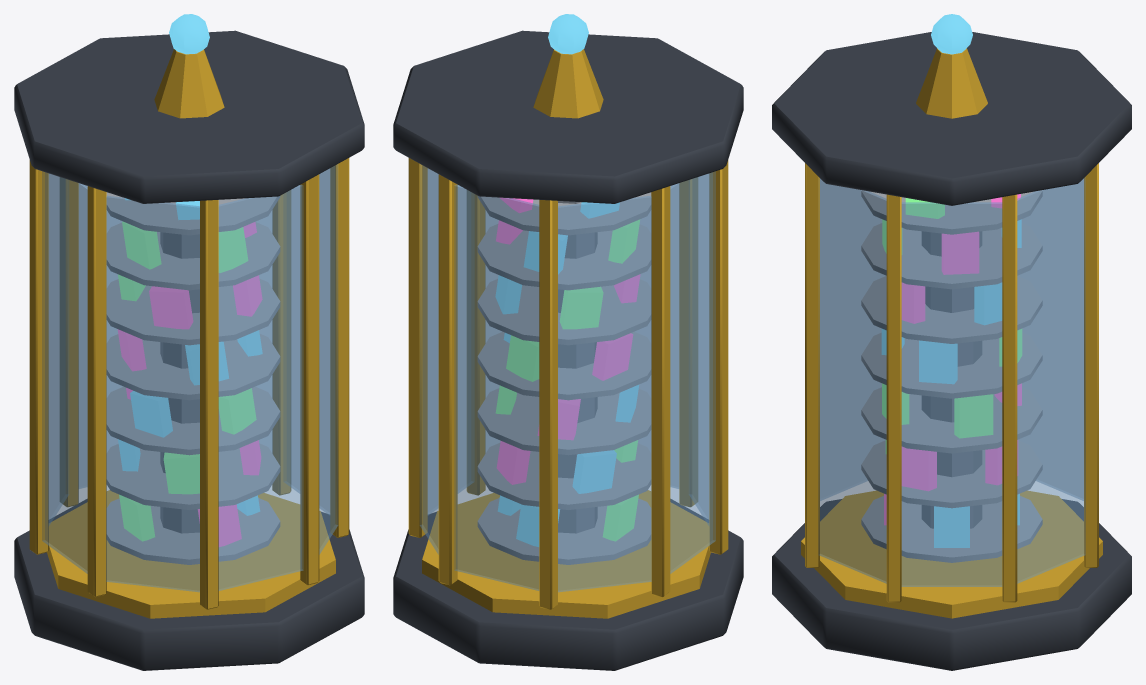
File: storage_data_crystal_vault.glb
3 views of the same model, side by side, from view 1: azimuth 30°, elevation 25°; view 2: azimuth 150°, elevation 25°; view 3: azimuth 270°, elevation 25° (orthographic).
Parts seen in each view (by area): view 1: storage_data_crystal_vault; view 2: storage_data_crystal_vault; view 3: storage_data_crystal_vault.
Boxes of the visible parts, x1,y1,x2,y2 form: storage_data_crystal_vault: (14, 14, 364, 670); storage_data_crystal_vault: (393, 14, 743, 670); storage_data_crystal_vault: (772, 14, 1131, 670).
Bounding box in the file's own units: 1.19 × 2.12 × 1.19.
